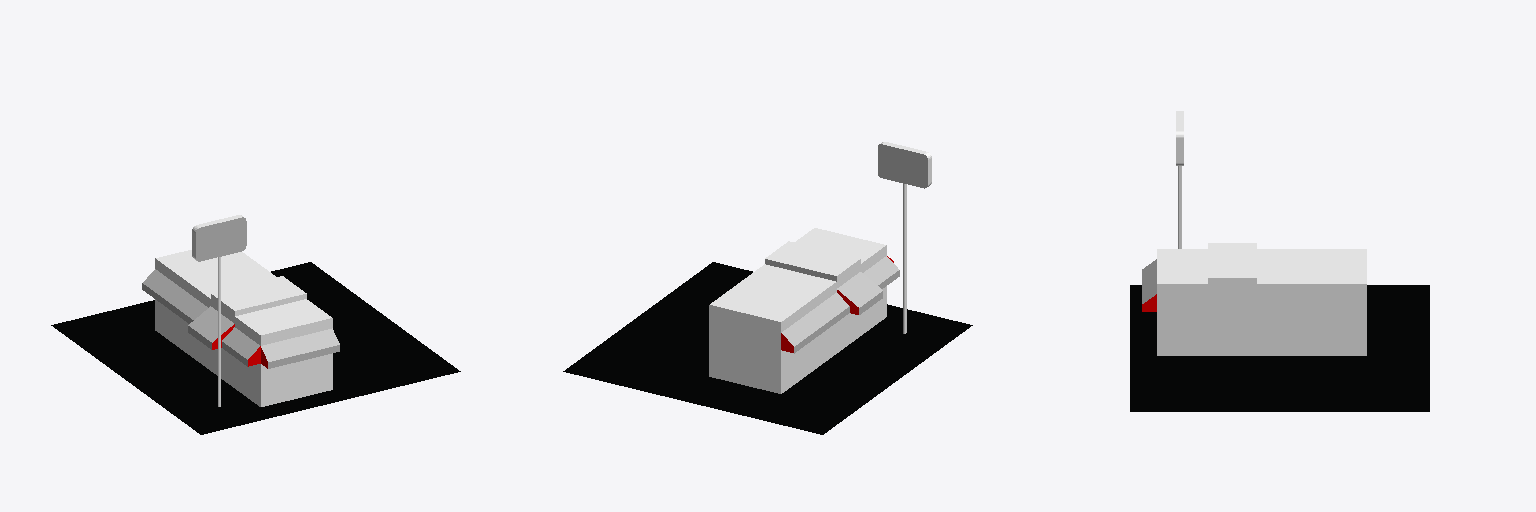
Rendered from city_kfc_n.obj.
3 views of the same model, side by side, from view 1: azimuth 30°, elevation 25°; view 2: azimuth 150°, elevation 25°; view 3: azimuth 270°, elevation 25° (orthographic).
Parts seen in each view (by area): view 1: city_kfc_Plane.003; view 2: city_kfc_Plane.003; view 3: city_kfc_Plane.003.
Boxes of the visible parts, box(x1,y1,x2,y2) form: city_kfc_Plane.003: box(51, 215, 460, 434); city_kfc_Plane.003: box(563, 142, 972, 434); city_kfc_Plane.003: box(1130, 111, 1429, 411).
Bounding box in the file's own units: 1.6 × 1.09 × 1.6.